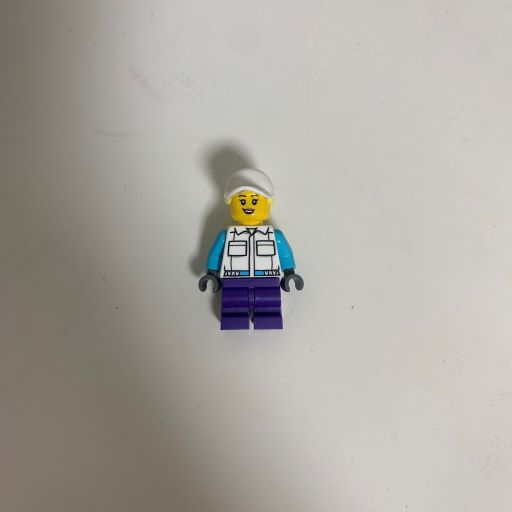human: (180, 155, 321, 336)
